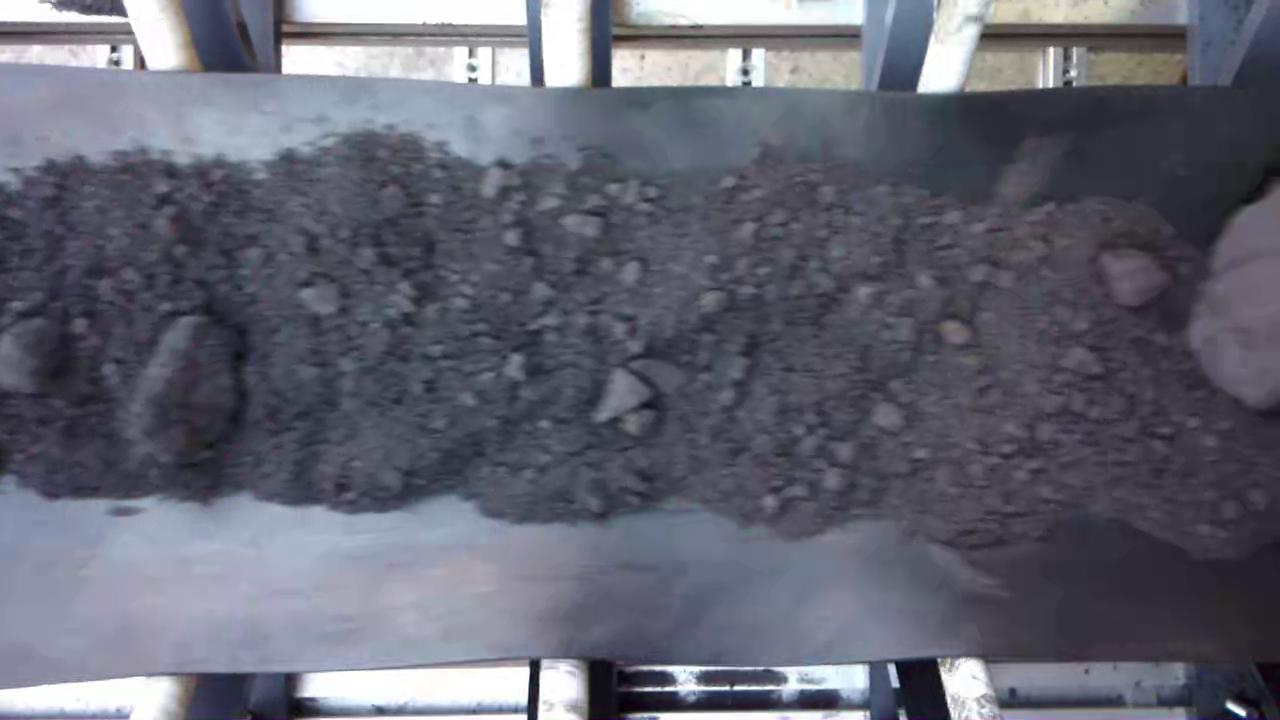conveyor: (3, 100, 1280, 651)
